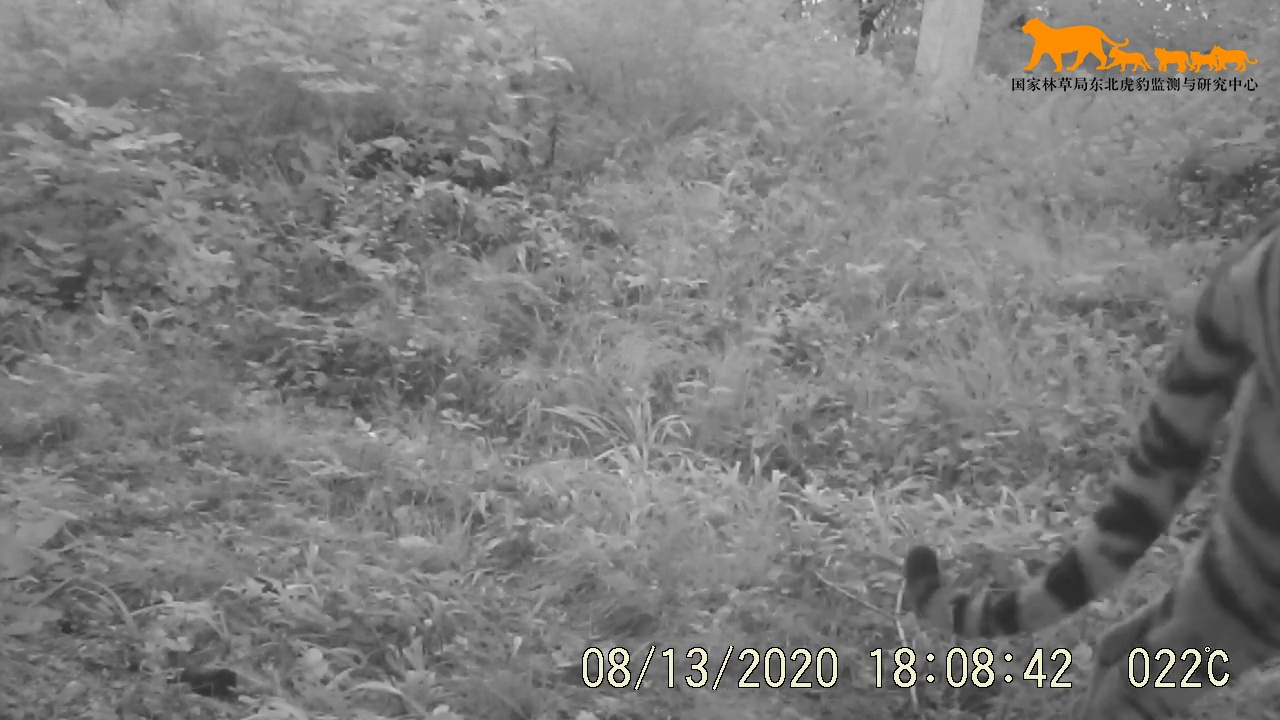Tiger: (836, 117, 1280, 720)
